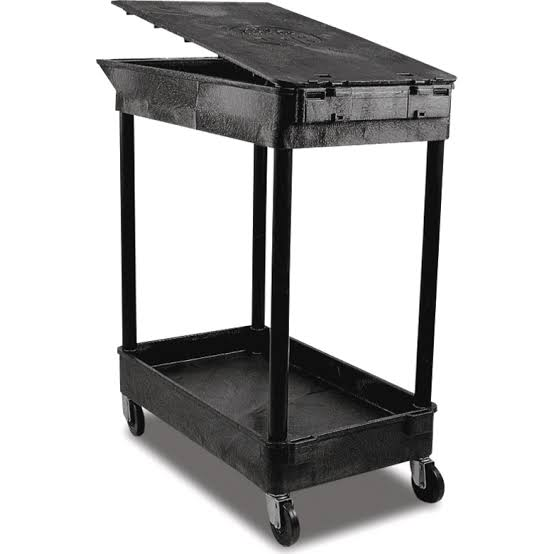Carts: (95, 1, 456, 548)
